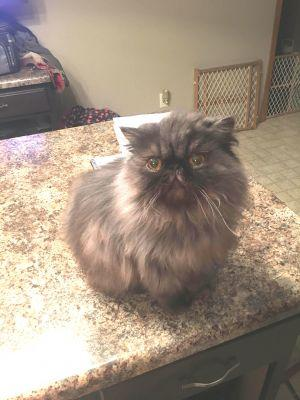persian: (121, 108, 241, 219)
